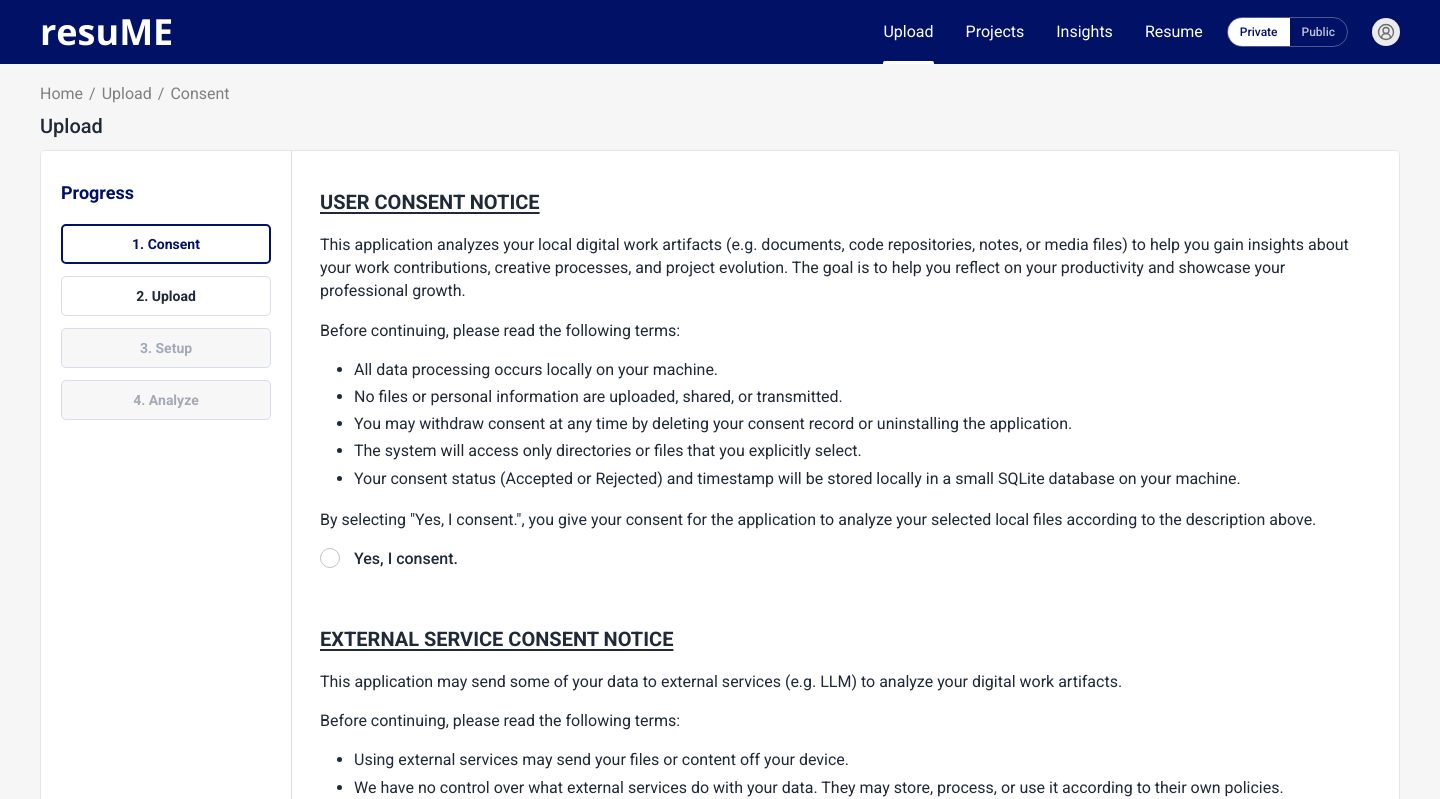
Test: upload wizard flow › shows save error and stays on consent page when API save fails
Expected: the heading "USER CONSENT NOTICE" is shown, [320,190,540,214]
Click the radio button labelled "Yes, I consent.": (330, 558) [320,548,340,568]
(page scrolled)
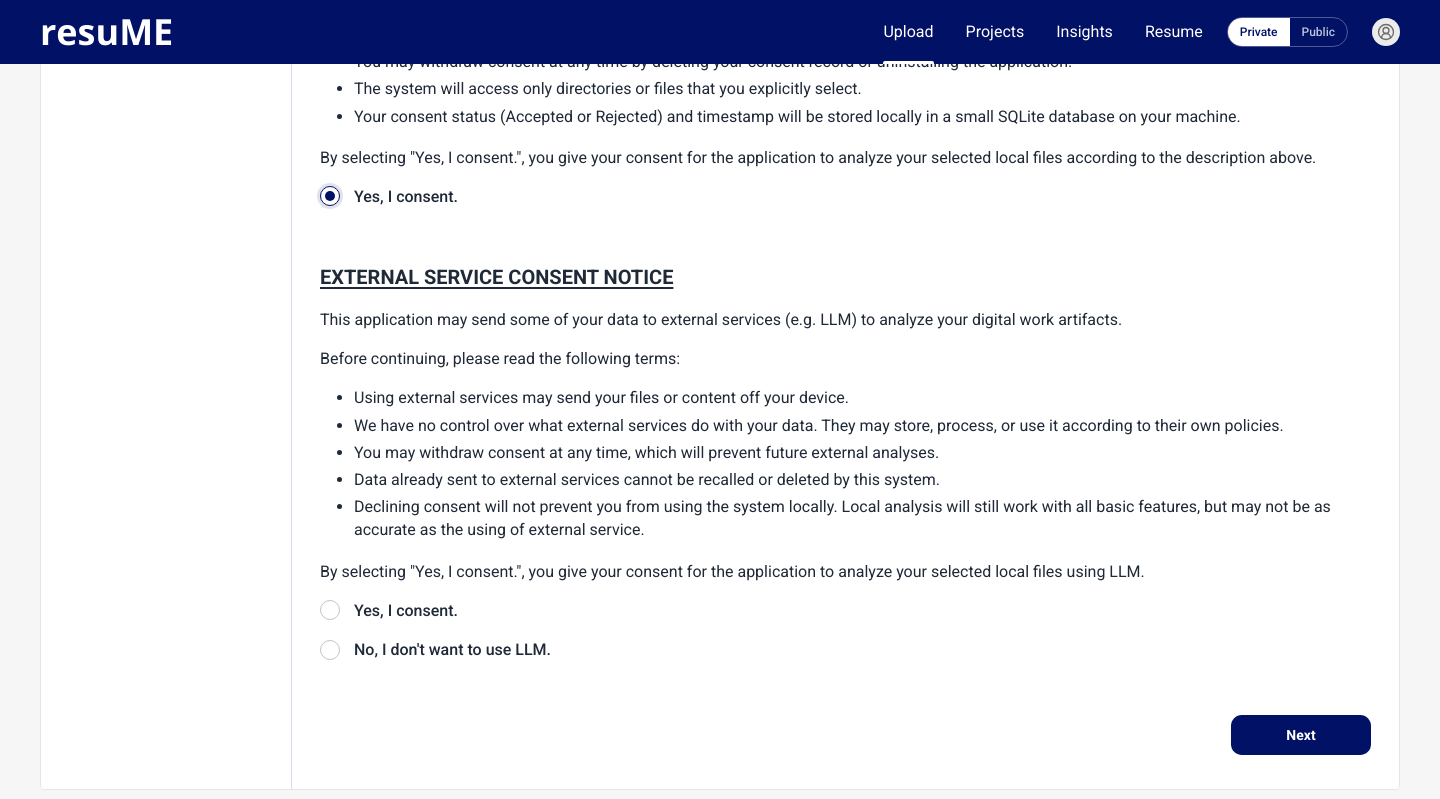
Click the radio button labelled "Yes, I consent." below "EXTERNAL SERVICE CONSENT NOTICE": (330, 610) [320,600,340,620]
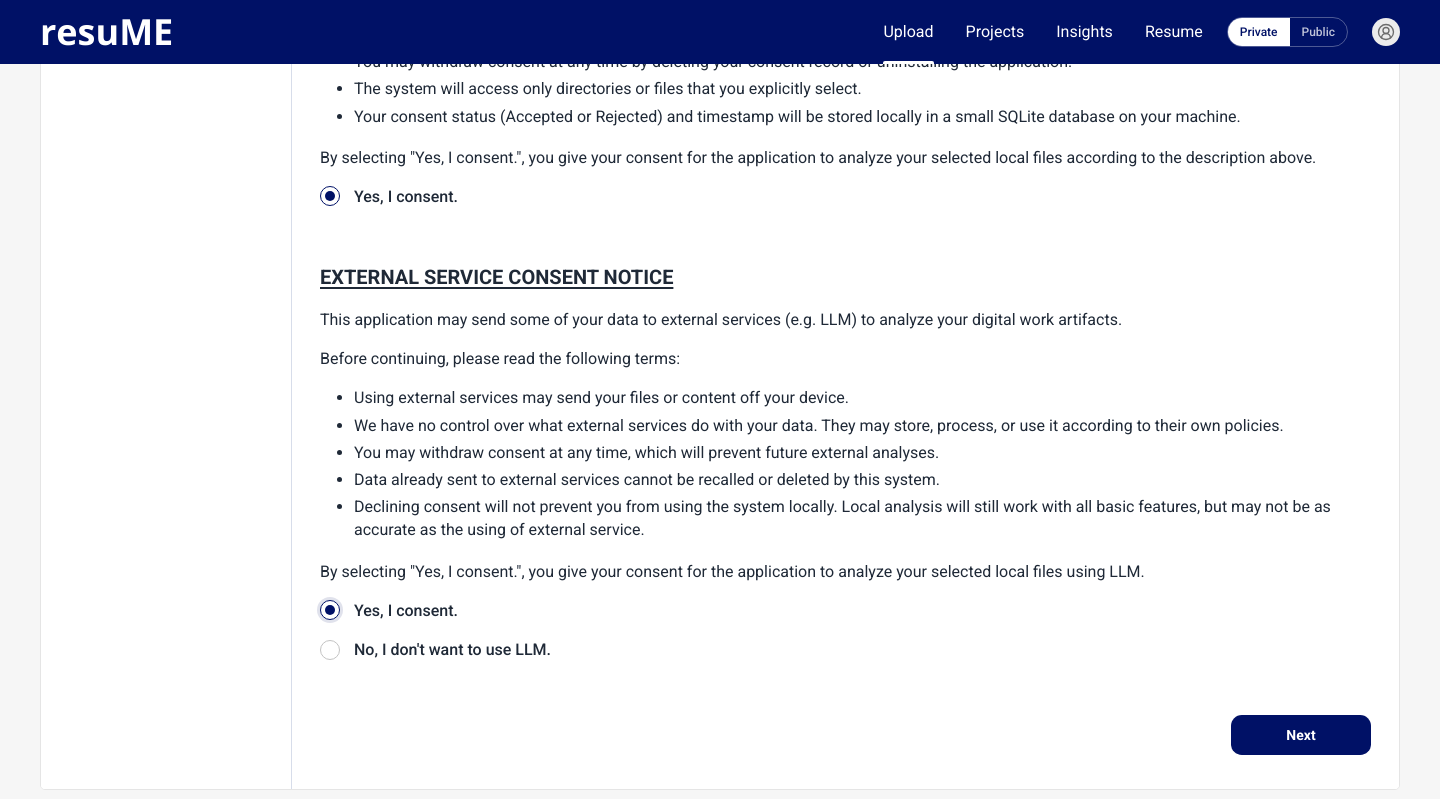
Click the button "Next": (1301, 735) [1231,715,1371,755]
(page scrolled)
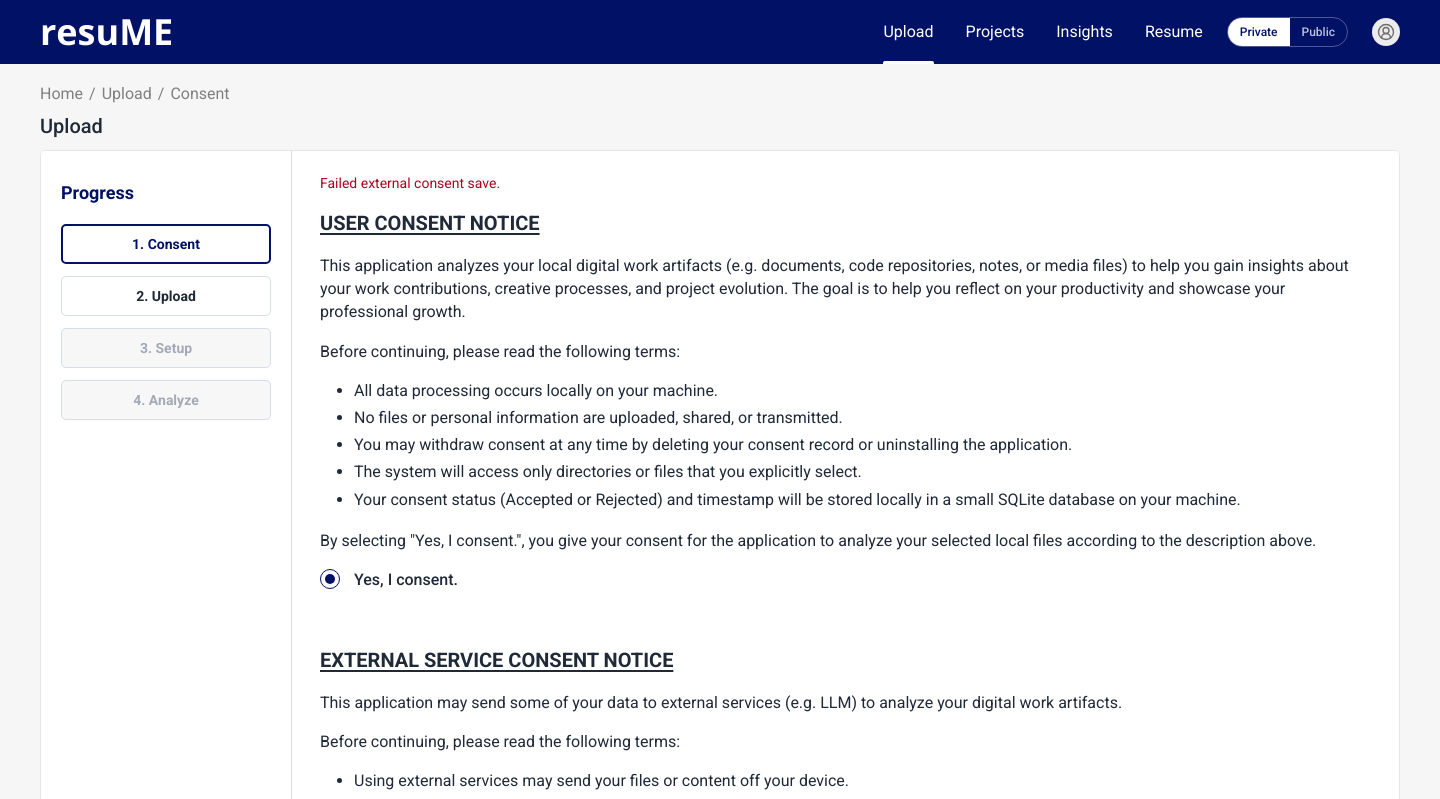
Now the text "Failed external consent save." is shown, box [320,175,500,191]
